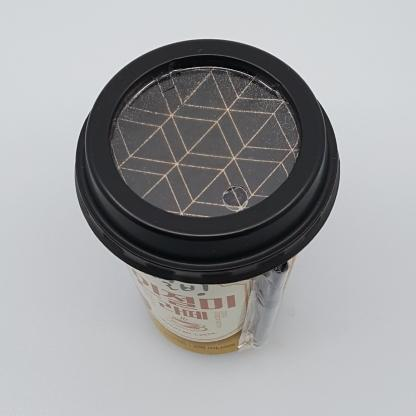--------------250ML: (74, 39, 340, 355)
